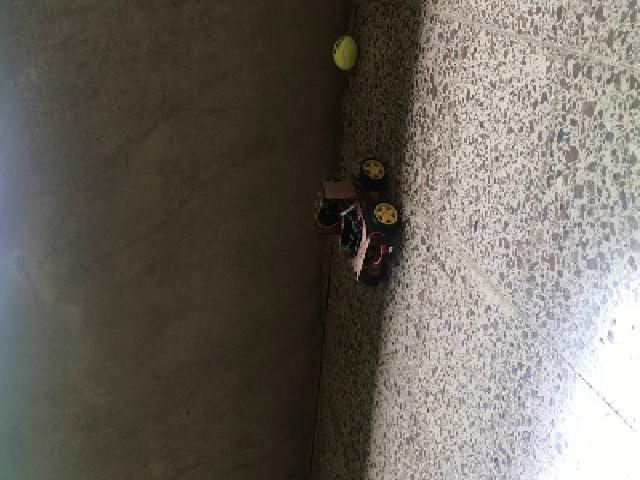Ball: (331, 36, 357, 70)
Robot: (310, 157, 403, 286)
